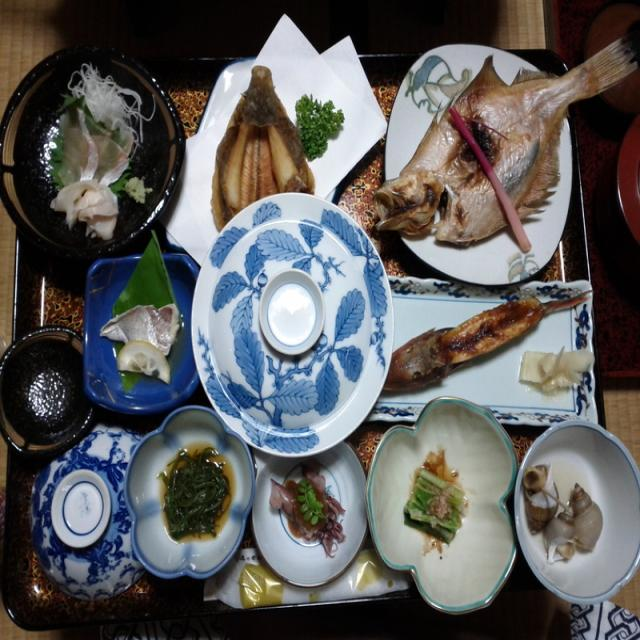刺身生食: (13, 43, 184, 277)
